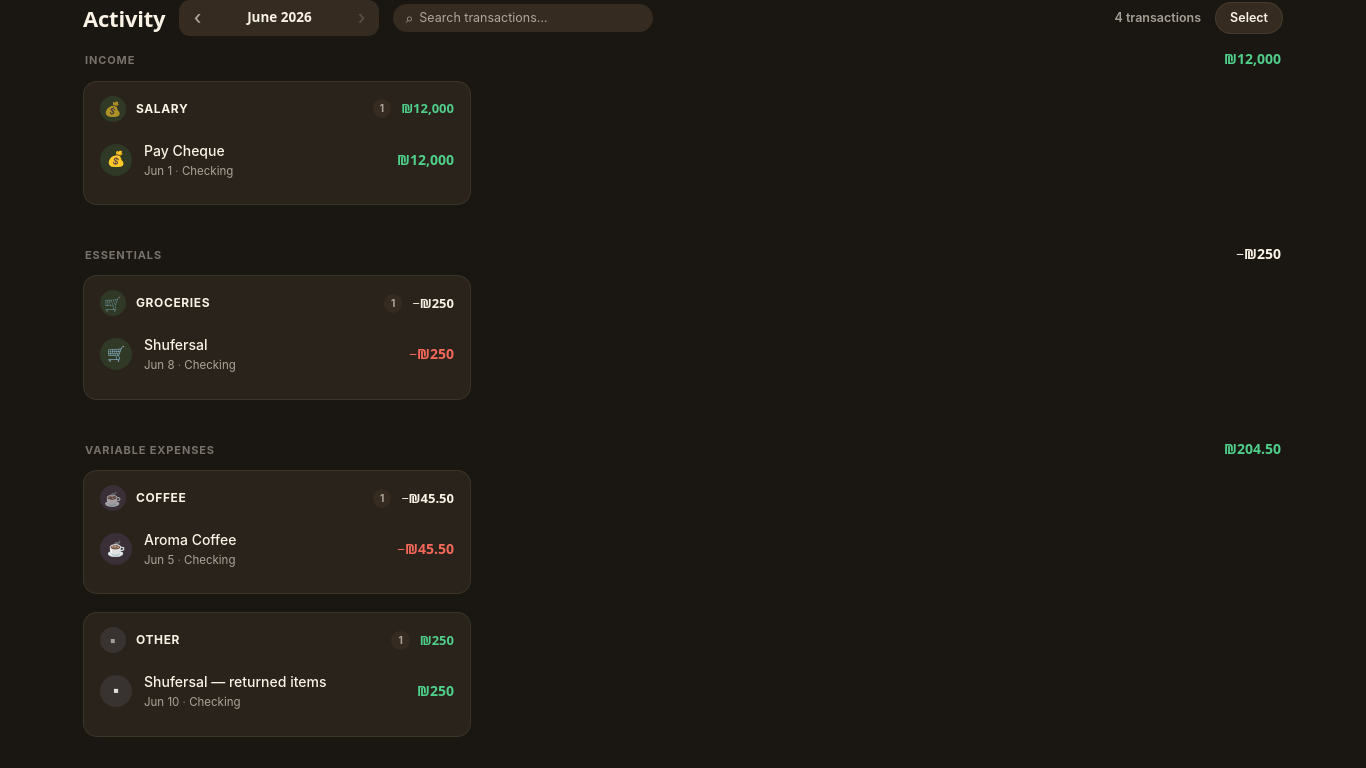
Test case: ActivityView — refund linking › clicking + Link opens a refund picker listing positive-amount candidates
Click the text "Shufersal".
click(176, 345)  # box left=144, top=336, right=208, bottom=353
(page scrolled)
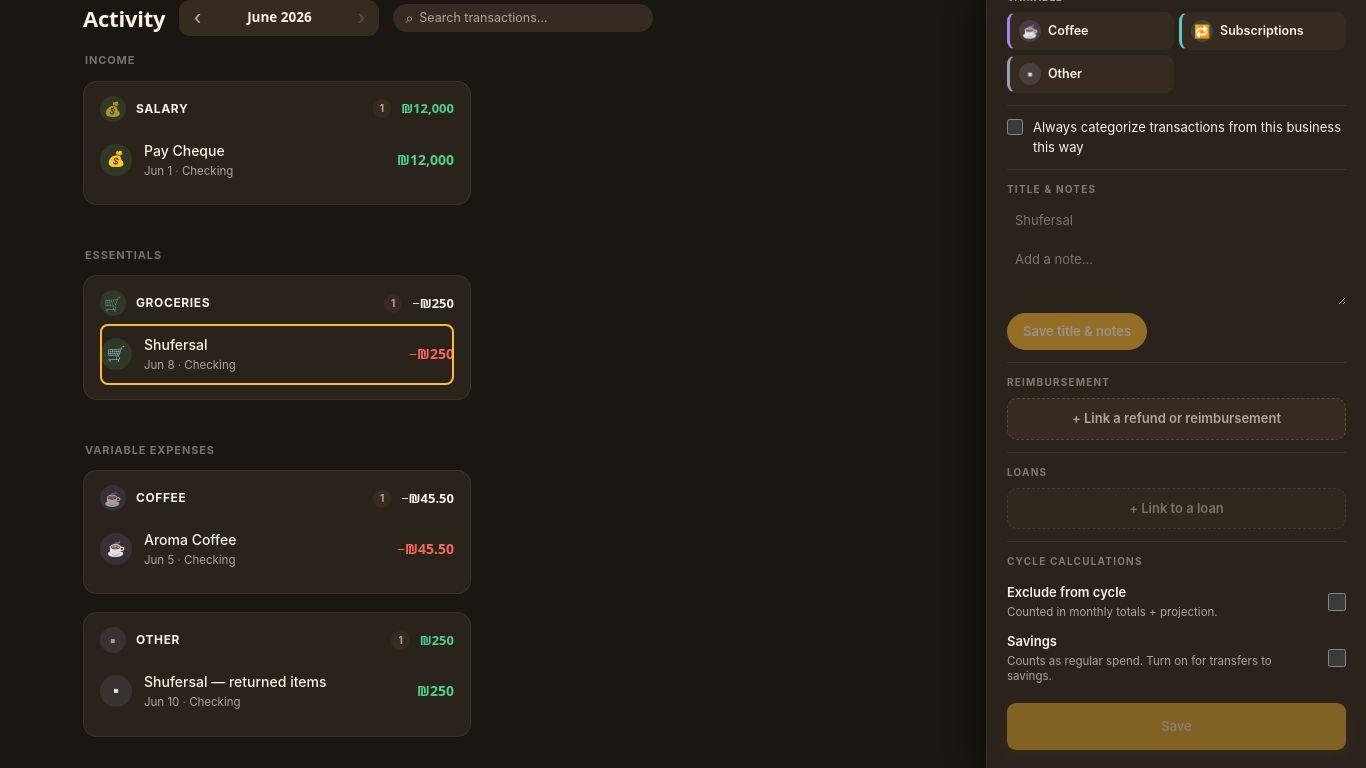
Click the button "+ Link a refund or reimbursement".
click(1176, 419)  # box left=1007, top=398, right=1346, bottom=440
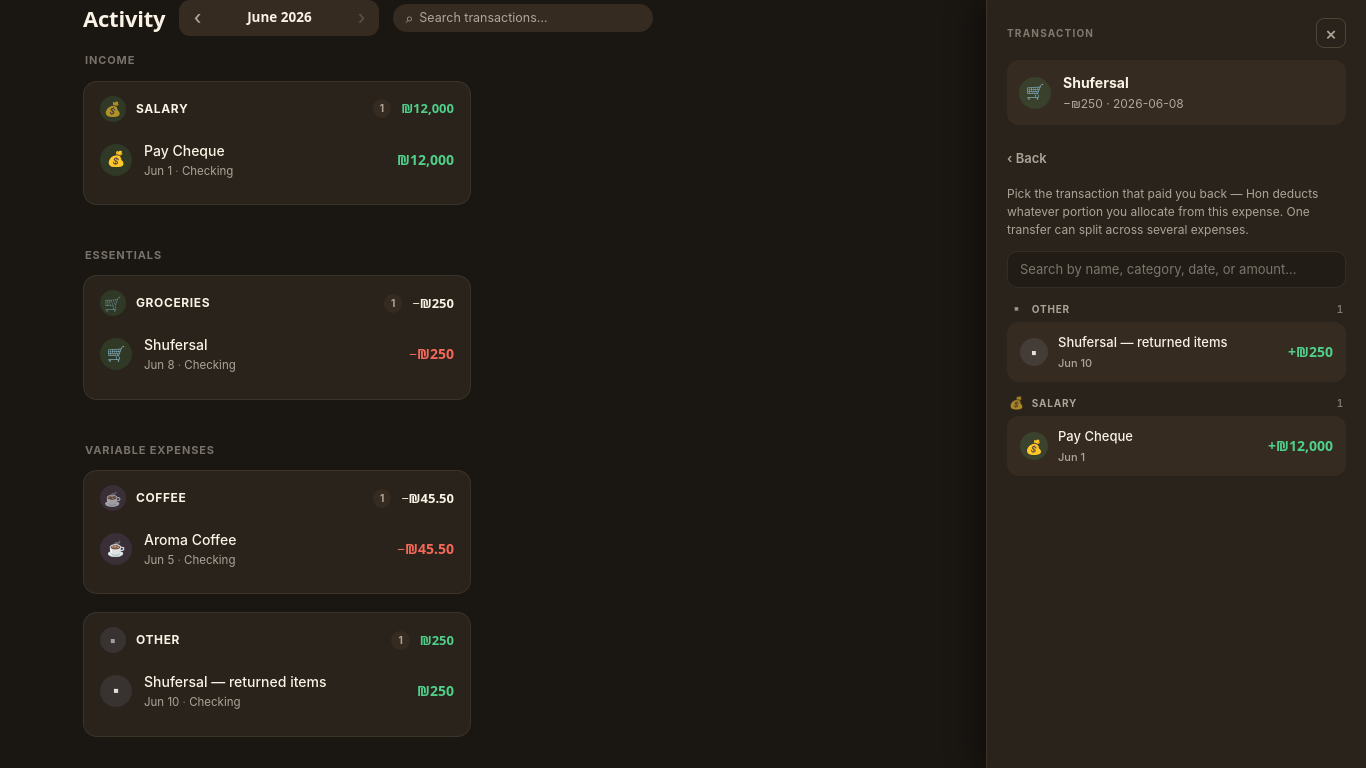
Now the button "‹ Back" is shown, box left=1007, top=145, right=1047, bottom=172
Now the button "▫️ Shufersal — returned items Jun 10 +₪250" is shown, box left=1007, top=322, right=1346, bottom=382
